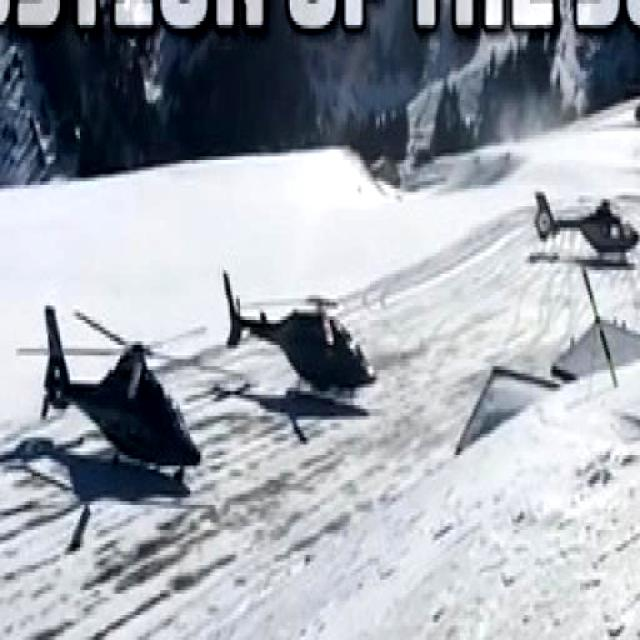drone: (26, 305, 201, 496), (219, 266, 376, 406), (532, 179, 640, 261)
